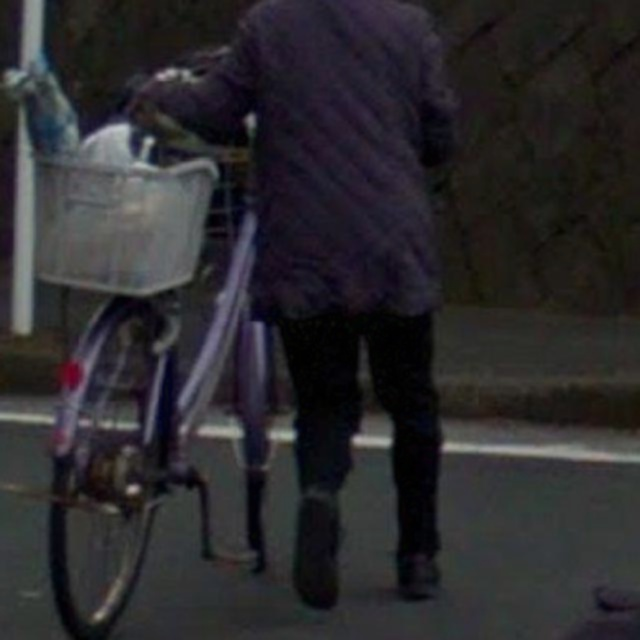bicycle: (2, 58, 347, 640)
